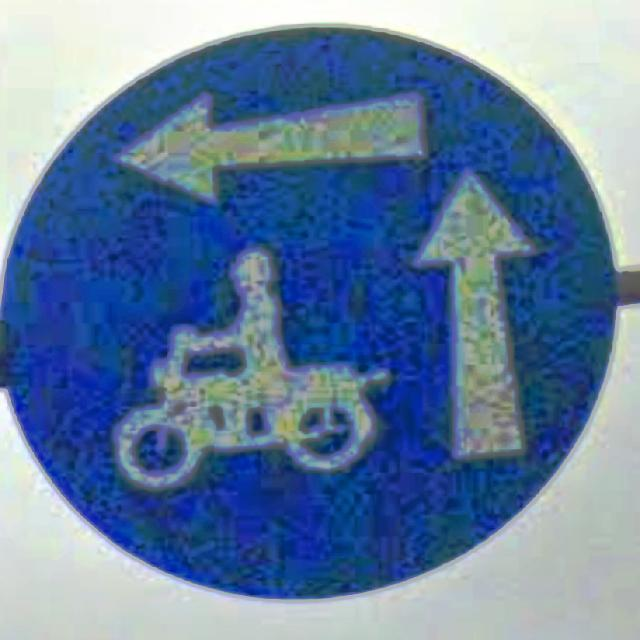twostageturn: (0, 24, 622, 608)
